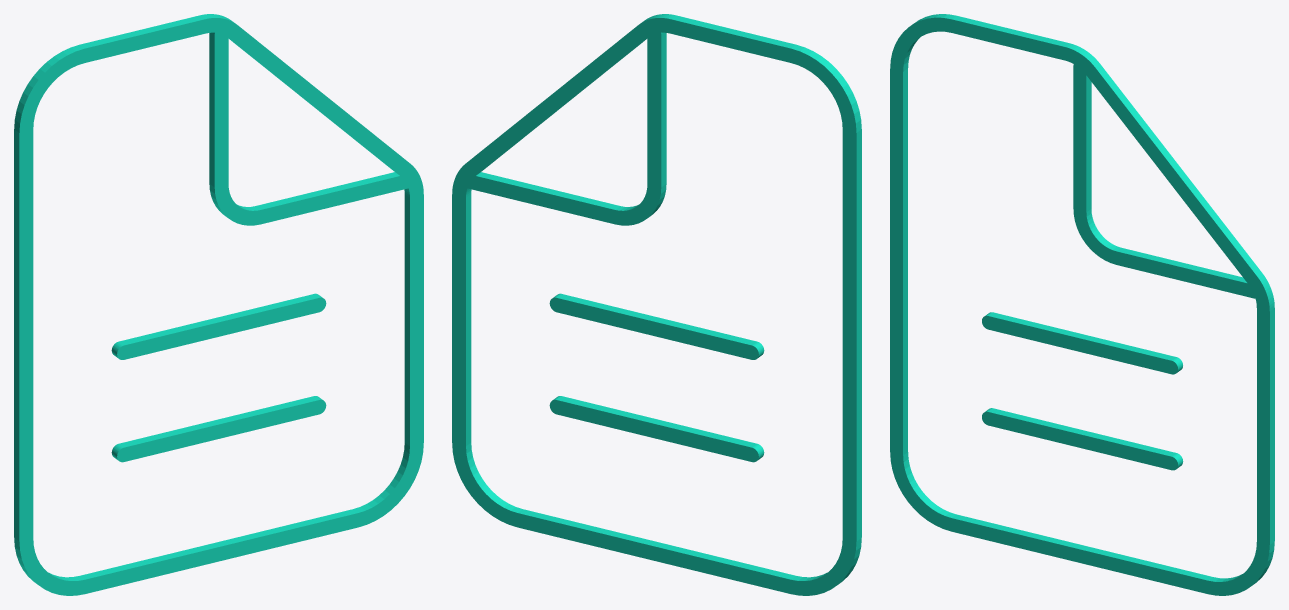
File: document-cyan.glb
The picture shows the model from 3 angles, left to right: view 1: azimuth 30°, elevation 25°; view 2: azimuth 150°, elevation 25°; view 3: azimuth 330°, elevation 25°; orthographic projection. The views are drawn at different scales.
Parts seen in each view (by area): view 1: path1; view 2: path1; view 3: path1.
Boxes of the visible parts, x1=… form: path1: x1=14, y1=14, x2=423, y2=595; path1: x1=452, y1=14, x2=861, y2=595; path1: x1=890, y1=14, x2=1274, y2=595.
Size of the model in its own units: 1.11 by 1.43 by 0.0253.
